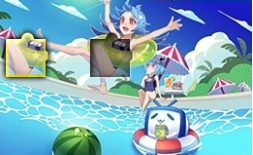gap: (90, 32, 133, 77)
